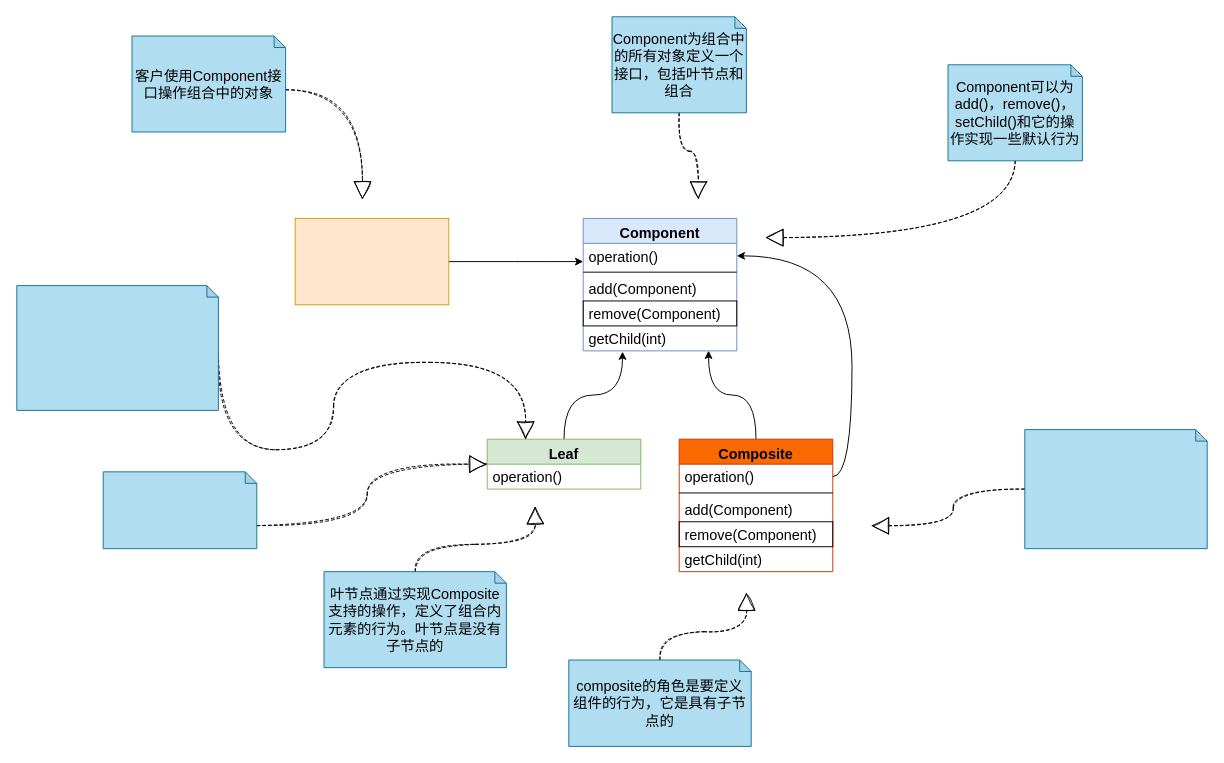
Some shapes in this 1224 by 763 pixel diagram are drawn without their labels. The shapes that lost their labels are listed below. From the top down, each one's centre as x and y in pixels, then its label:
At [371,261]: "Client".
At [117,347]: "请注意，叶节点也继承了像add()，remove()和setChild()这样的方法，这些方法虽然对叶节点没有任何意义".
At [1115,489]: "这个Composite也实现了叶节点相关的操作。其中有一些操作可能对于Composite意义不大，因此在这个情况下可能产生异常".
At [179,510]: "叶节点没有孩子".
